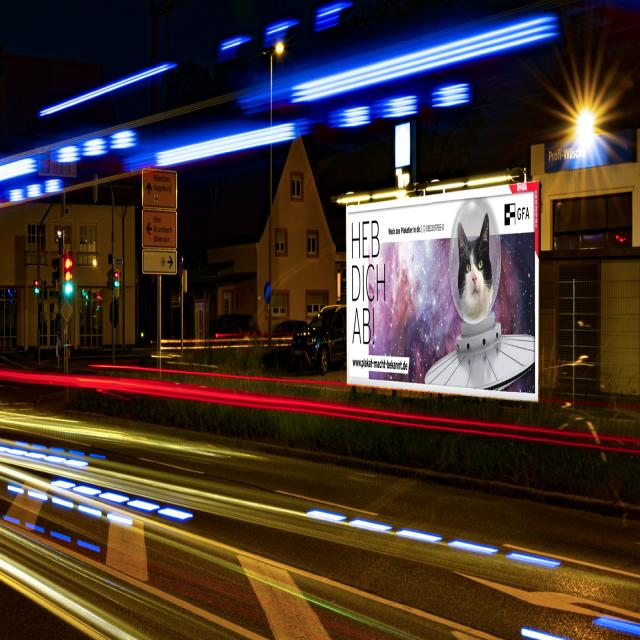Werbetafel frei: (346, 183, 540, 403)
